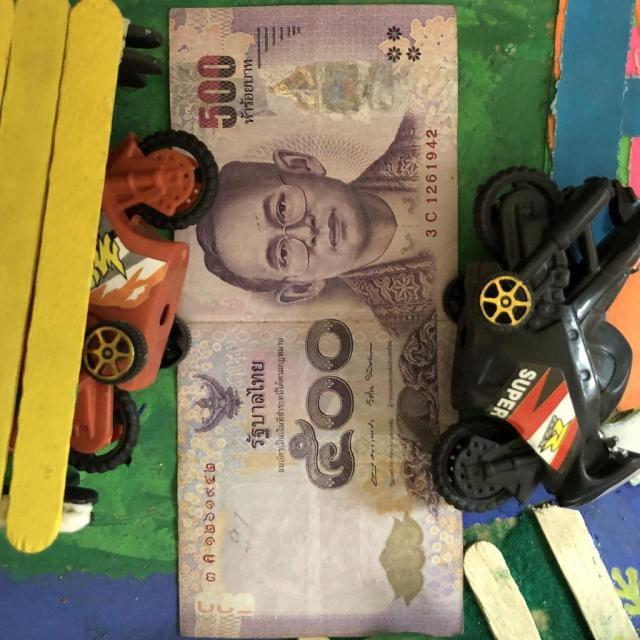THAI500: (169, 5, 462, 638)
